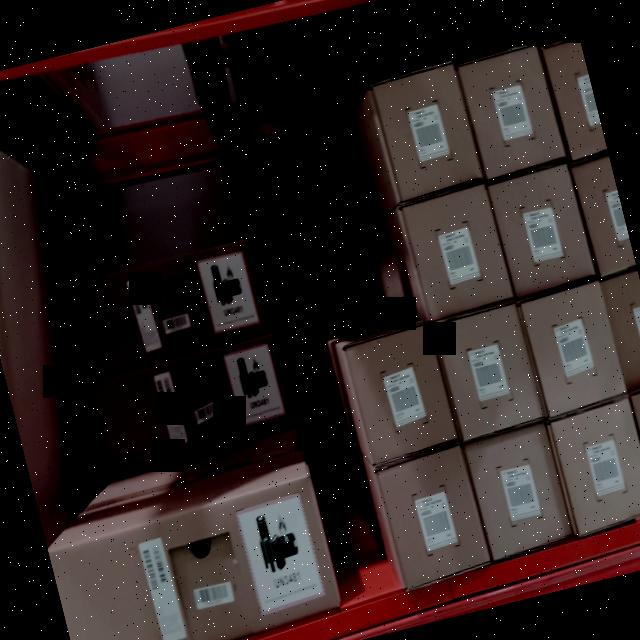box: (49, 484, 342, 640), (61, 237, 270, 377), (87, 335, 296, 474), (375, 448, 490, 586), (344, 327, 458, 461), (401, 184, 513, 320), (370, 65, 482, 199), (431, 308, 543, 438), (457, 44, 565, 178), (518, 282, 626, 414), (464, 424, 572, 556), (488, 164, 593, 296), (549, 405, 640, 530)
